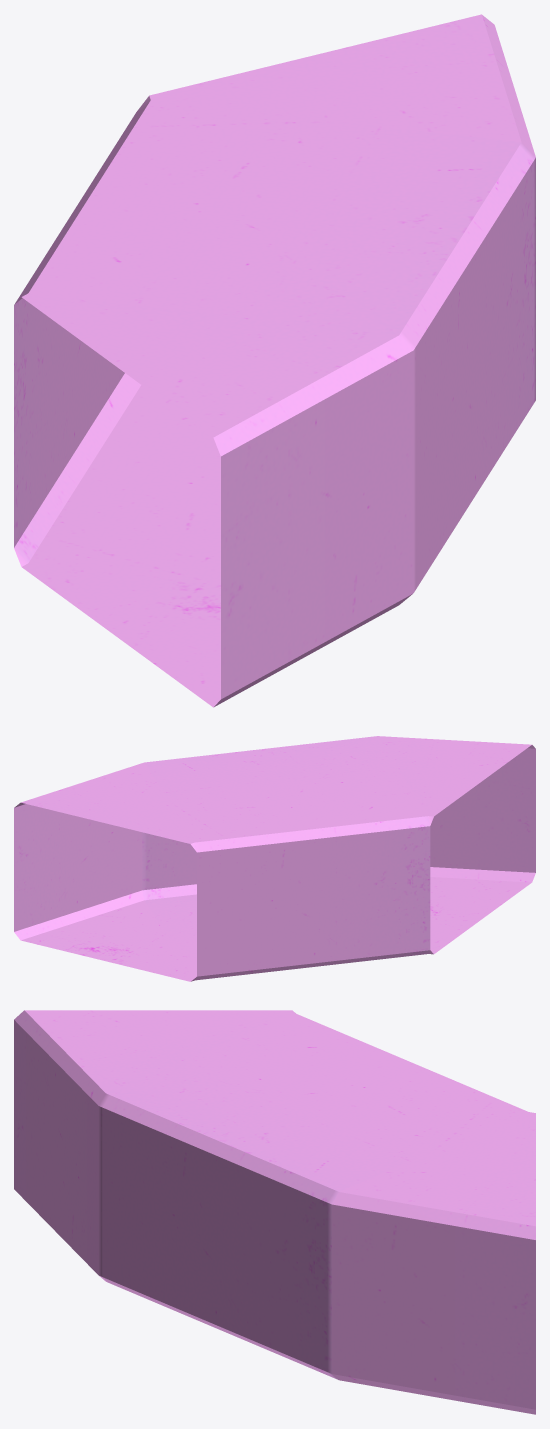
Rendered from AirDuctAngle_01_SM_Low.fbx.
3 views of the same model, one above another, from view 1: azimuth 30°, elevation 25°; view 2: azimuth 150°, elevation 25°; view 3: azimuth 270°, elevation 25° (orthographic). The views are drawn at different scales.
Parts seen in each view (by area): view 1: Angle_Long; view 2: Angle_Long; view 3: Angle_Long.
Boxes of the visible parts, x1,y1,x2,y2 form: Angle_Long: [14, 14, 535, 707]; Angle_Long: [14, 736, 535, 981]; Angle_Long: [14, 1010, 535, 1414].
Bounding box in the file's own units: 161 × 64 × 161.
1 material, 1 textured.
